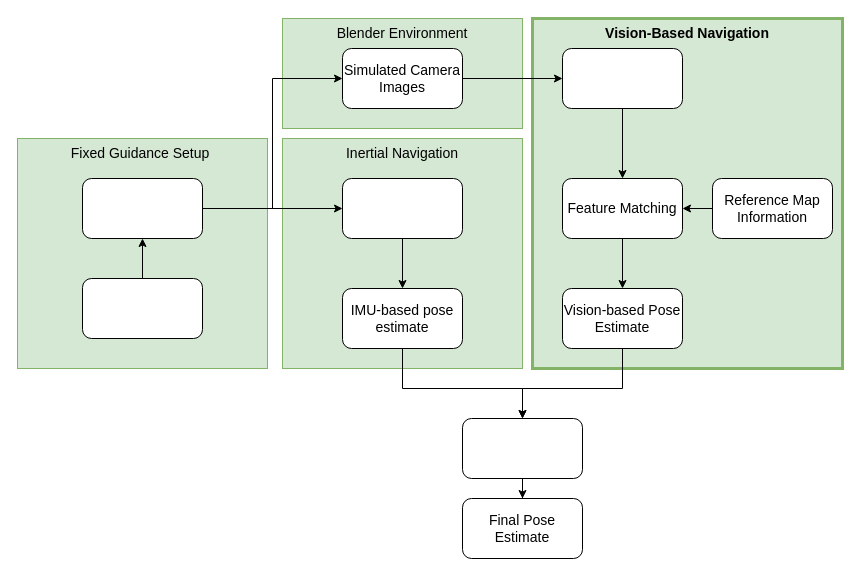
The diagram is 861 pixels wide and 576 high, and some of its shapes have lost their labels. The centre of each missing label's shape, as x and y in pixels:
Feature Detection: point 622,78
Pre-determined trajectory: point 142,308
Rocket Pose: point 142,208
Sensor Fusion: point 522,448
Simulated IMU pose data: point 402,208
